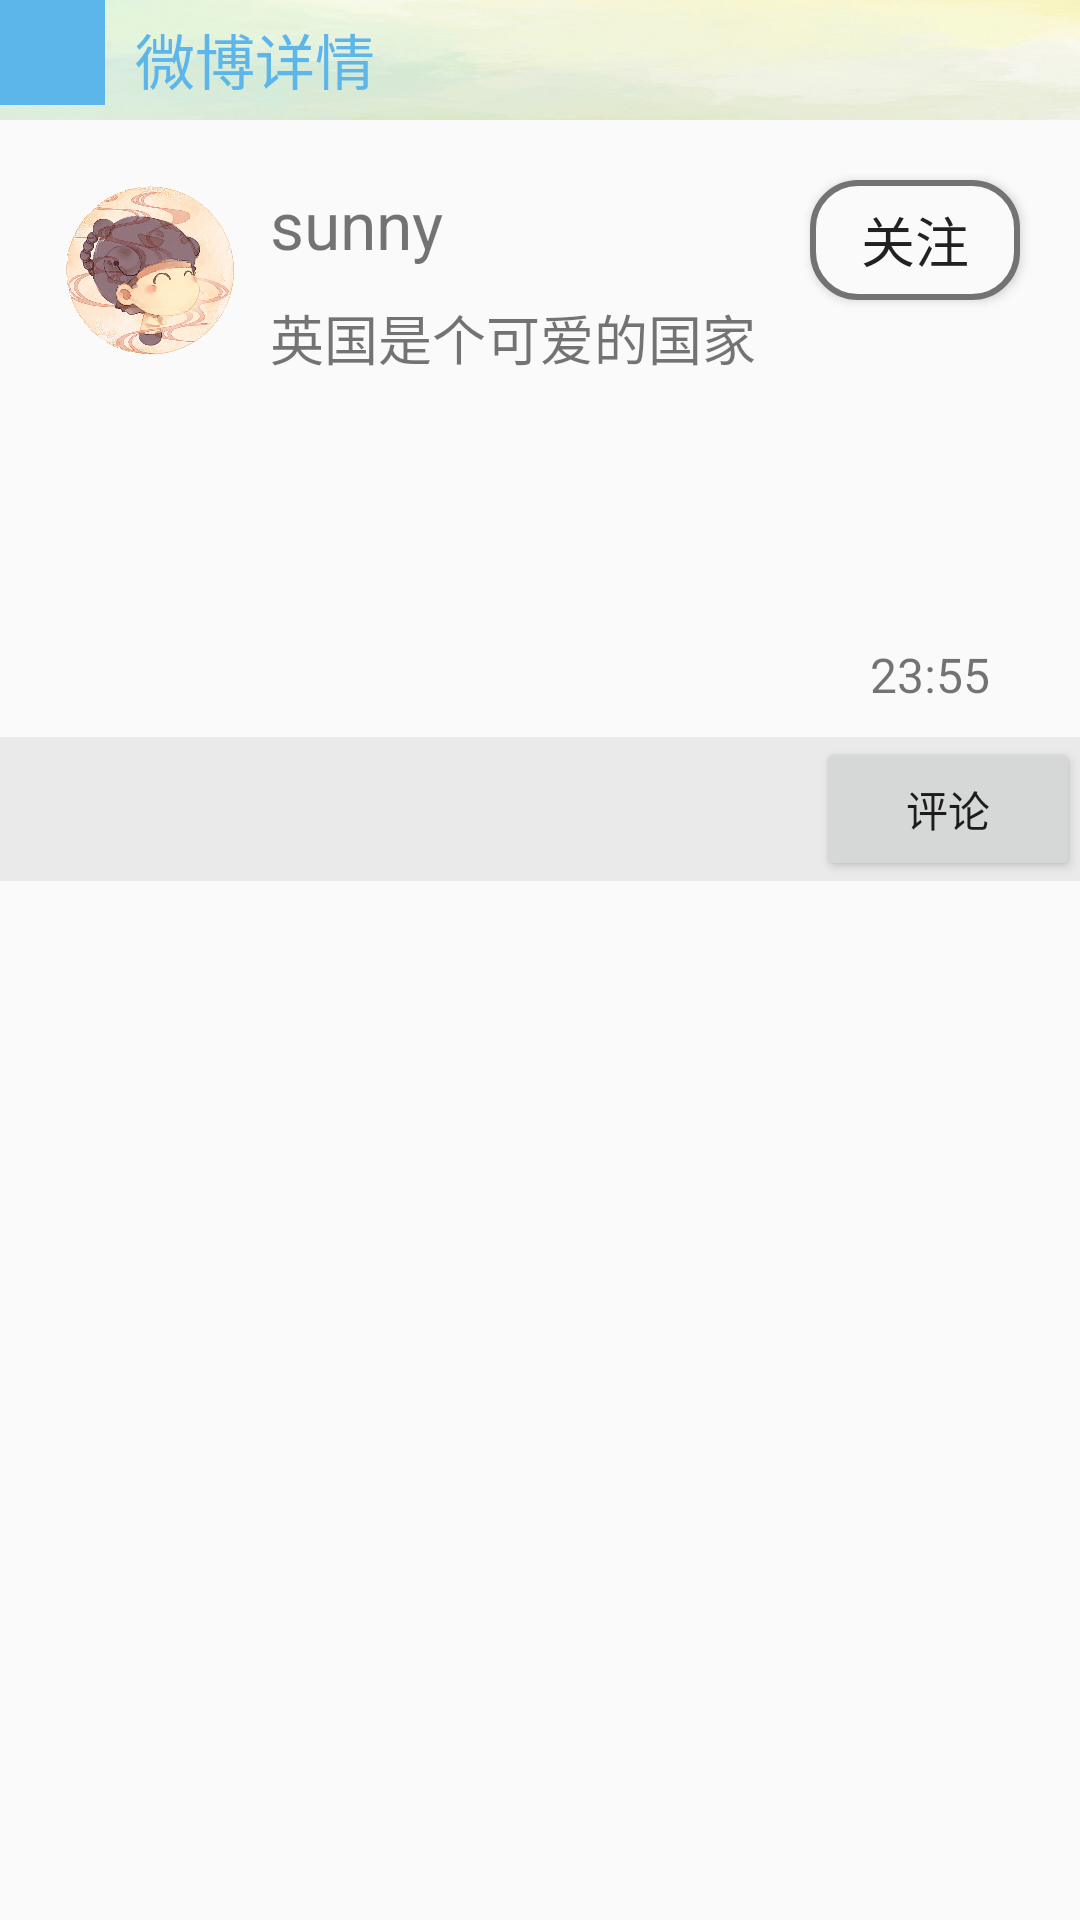

Screen size 1080w x 1920h. Icon name, then its box in pixels as (x1, y1, x2, y2):
touxiang: (66, 186, 234, 355)
